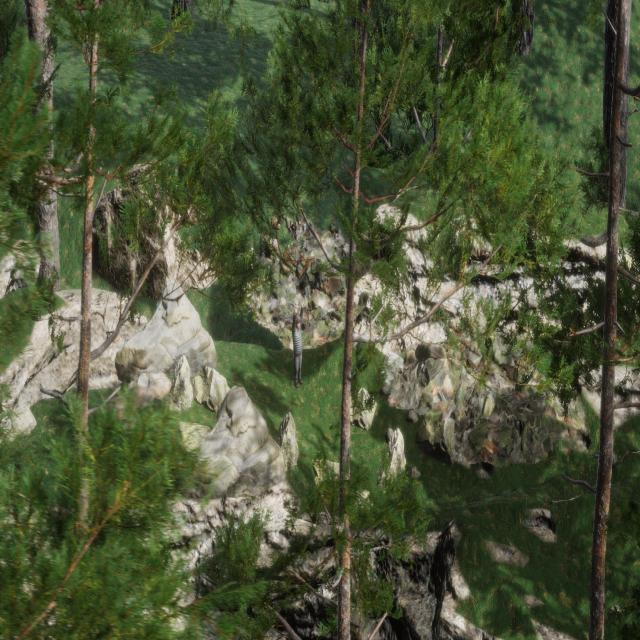Human: (287, 296, 307, 394)
